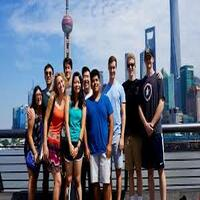person: (96, 50, 124, 86), (22, 83, 49, 115), (50, 66, 71, 103), (51, 52, 80, 78), (77, 60, 97, 95), (36, 56, 55, 89), (141, 44, 159, 72), (69, 69, 83, 99), (90, 68, 104, 98), (122, 53, 139, 75)
